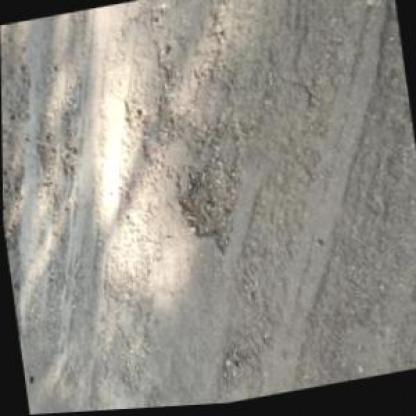pothole: (172, 154, 247, 262), (54, 118, 83, 176), (32, 121, 58, 176)
